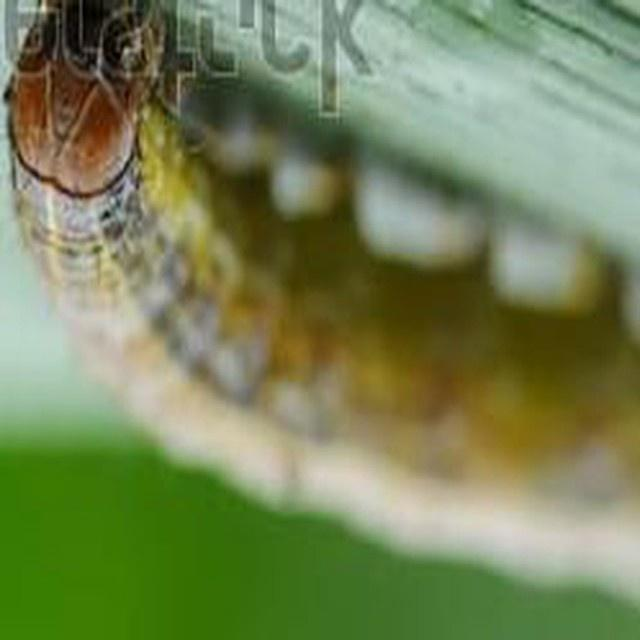gusano_cogollero: (9, 20, 504, 512)
